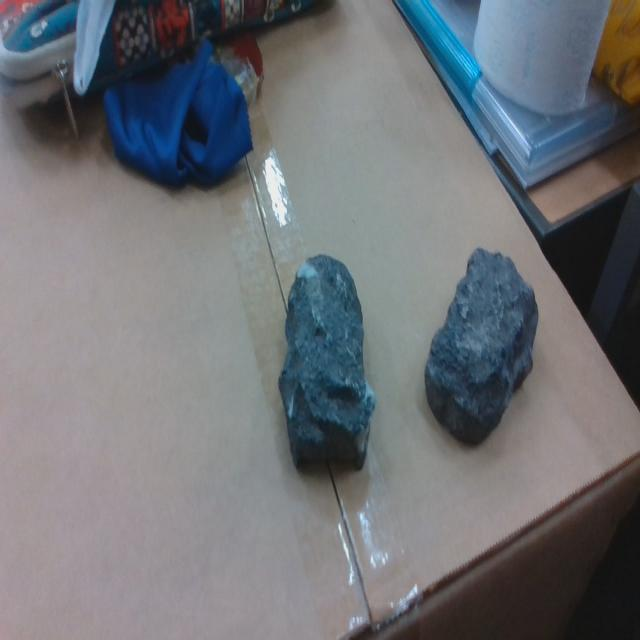stone: (277, 254, 380, 482), (425, 248, 539, 450)
